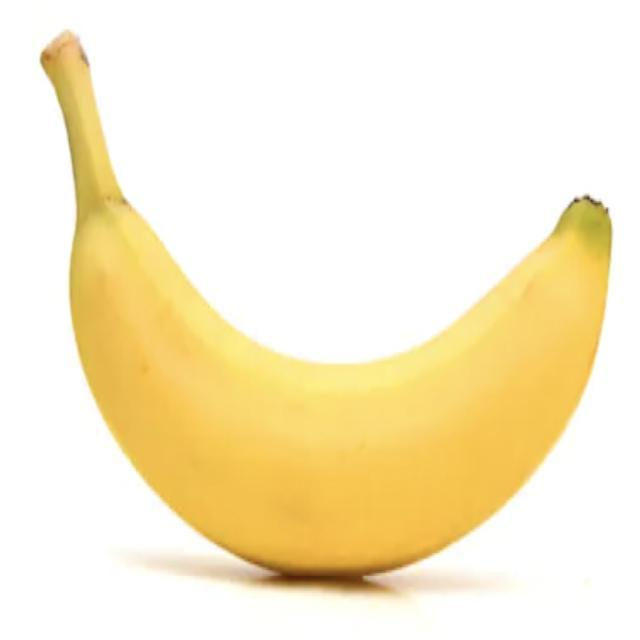Banana: (38, 27, 613, 581)
